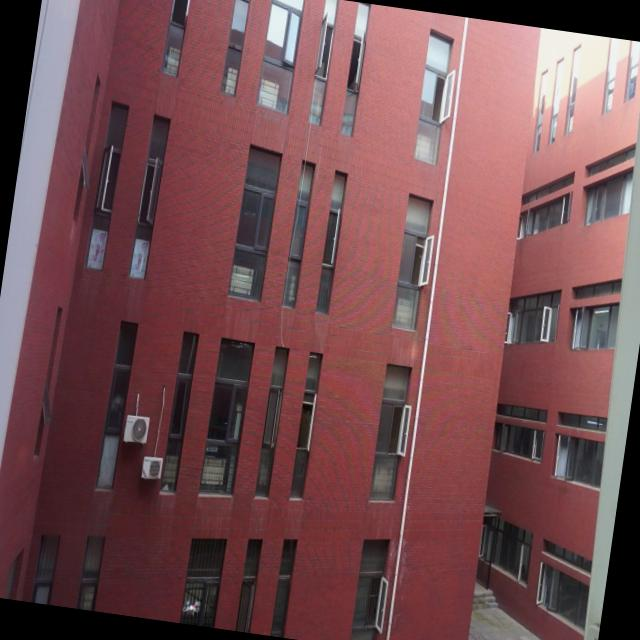drone: (180, 593, 204, 618)
